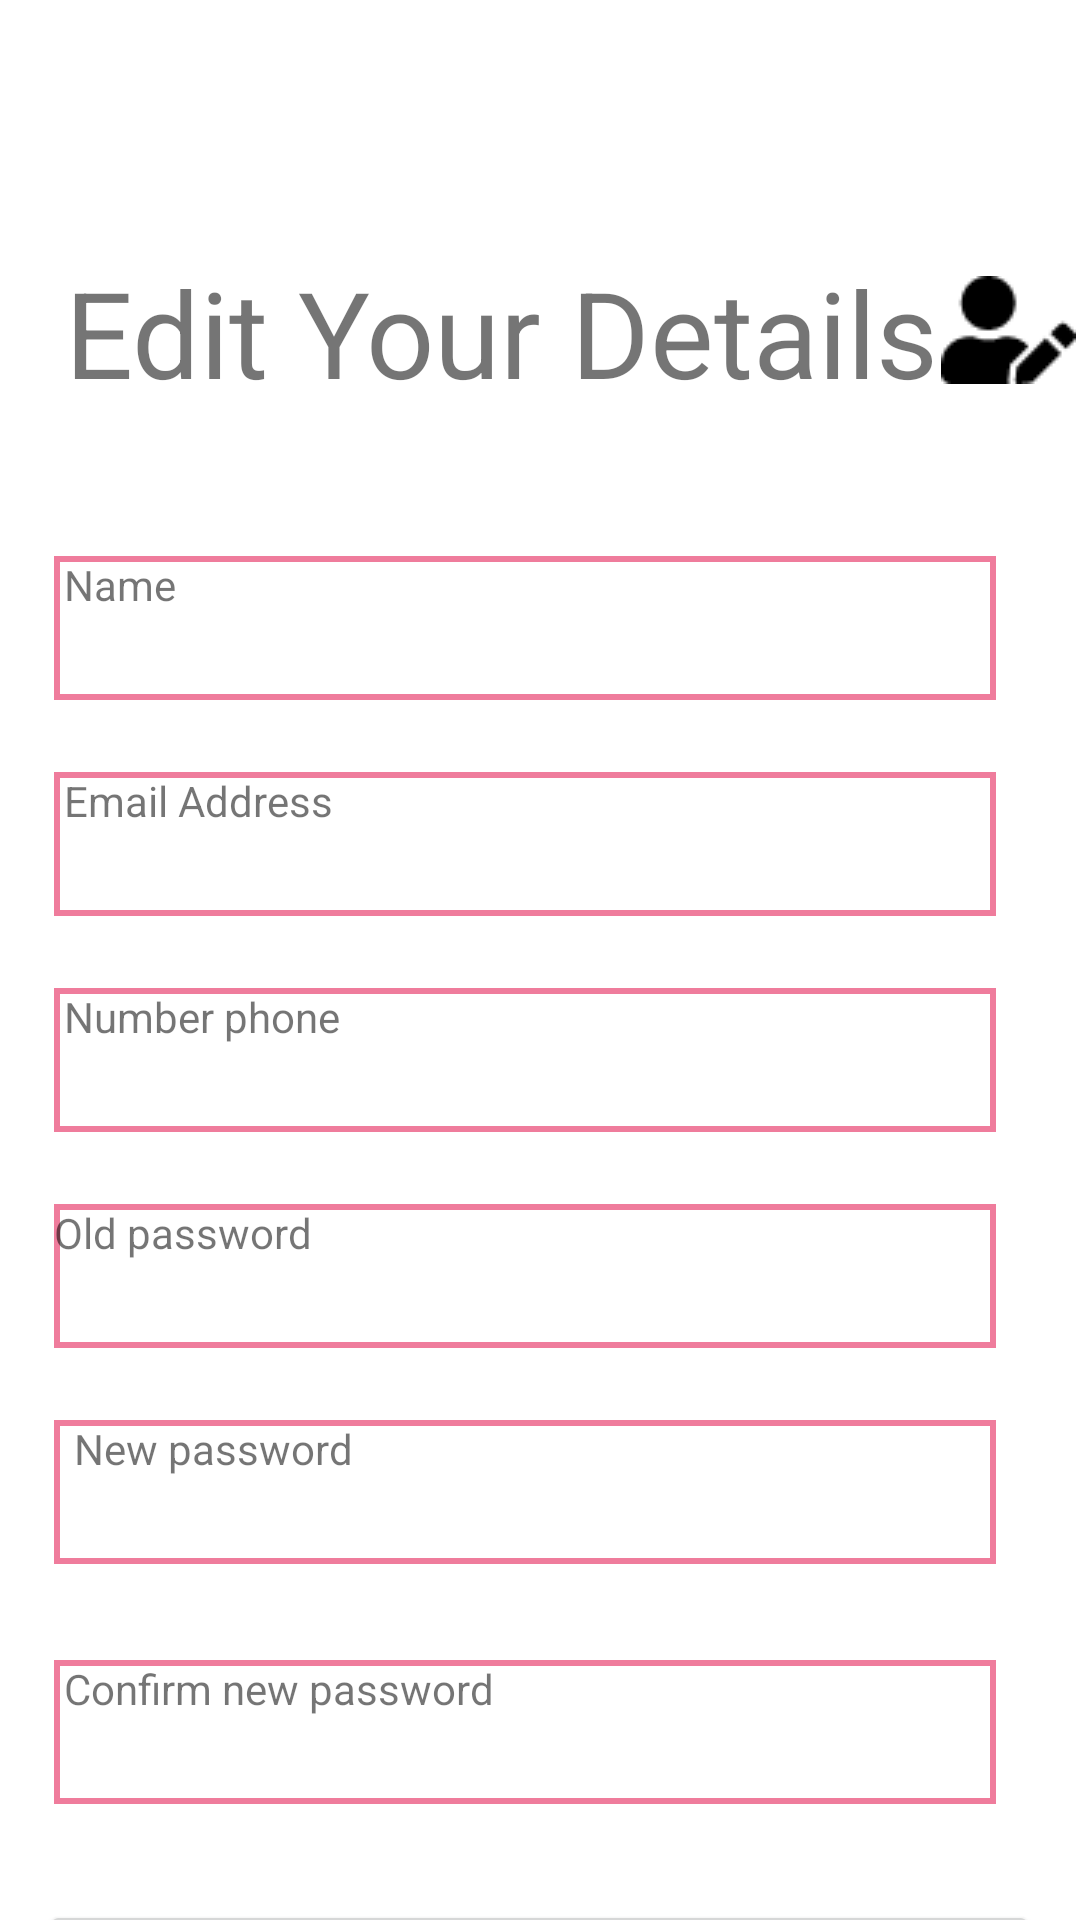

Icon click points for this 1080*1920 phone screenshot, format point (x, y):
awesome user edit: point (1008, 330)
